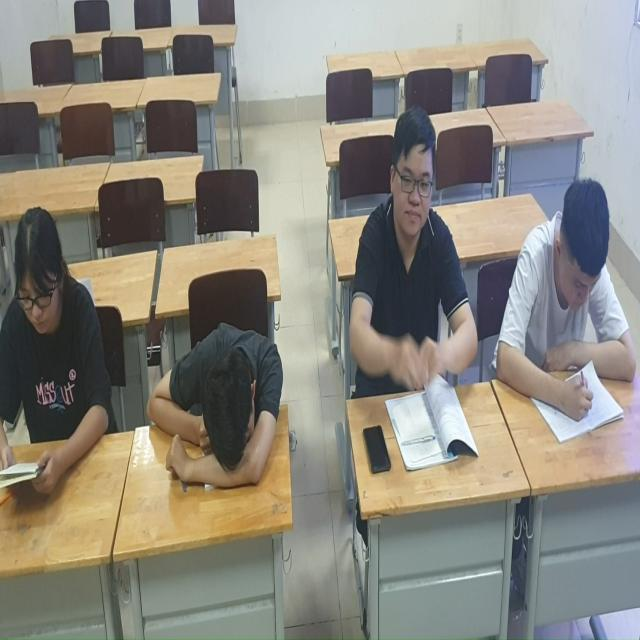read: (492, 176, 640, 458), (1, 204, 128, 502)
sleep: (148, 311, 287, 505)
